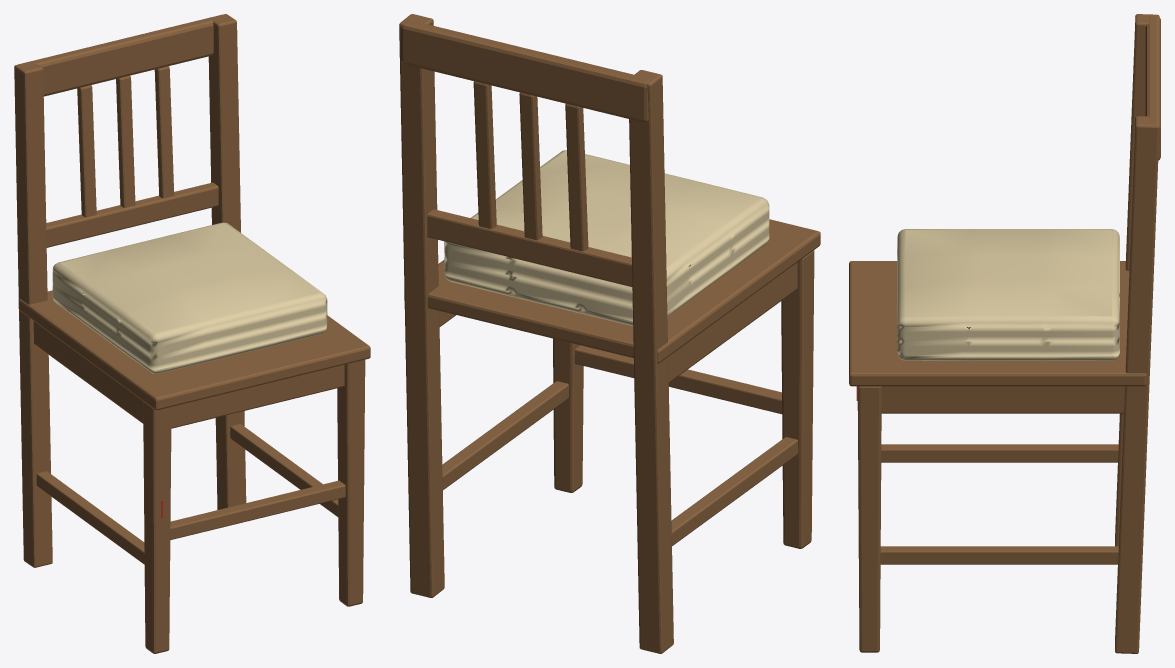
Rendered from GheAn_nhim.glb.
3 renders of one model, left to right at view 1: azimuth 30°, elevation 25°; view 2: azimuth 150°, elevation 25°; view 3: azimuth 270°, elevation 25°, orthographic. The views are drawn at different scales.
Visible parts, largest first — view 1: geometry_0; view 2: geometry_0; view 3: geometry_0.
Boxes of the visible parts, x1,y1,x2,y2 form: geometry_0: (14, 14, 370, 653); geometry_0: (399, 14, 820, 653); geometry_0: (849, 14, 1160, 653).
Size of the model in its own units: 0.39 by 0.846 by 0.4519.
